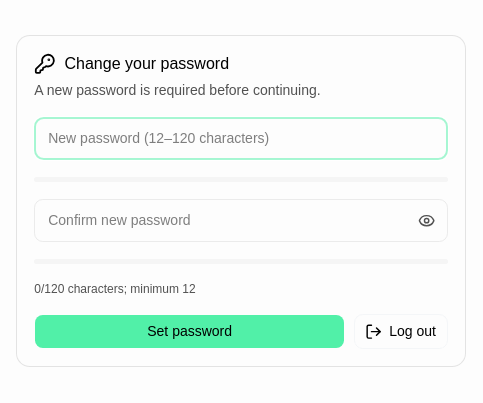
Test case: ChangePassword › rejects a password that is too short without making a request
Type "short" into the password field labelled "New password". click: (241, 138)
box: 34,117 -> 448,160
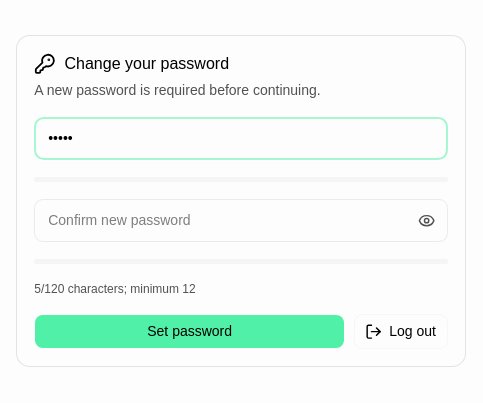
Type "short" into the password field labelled "Confirm new password". click: (241, 220)
box: 34,199 -> 448,242
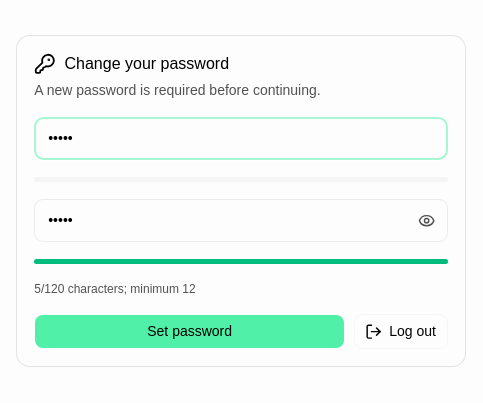
Click the button "Set password". click: click(190, 331)
box: 34,314 -> 345,349
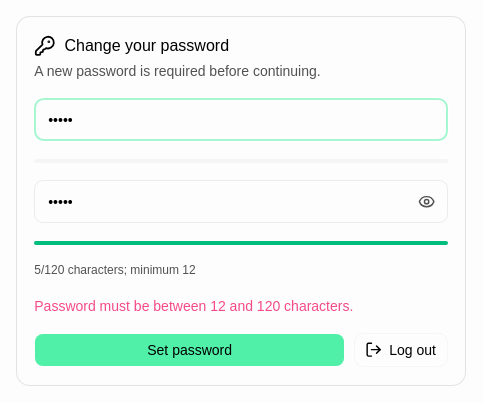
Check: the message reads "Password must be between 12 and 120 characters.", box 34,298 -> 353,314
